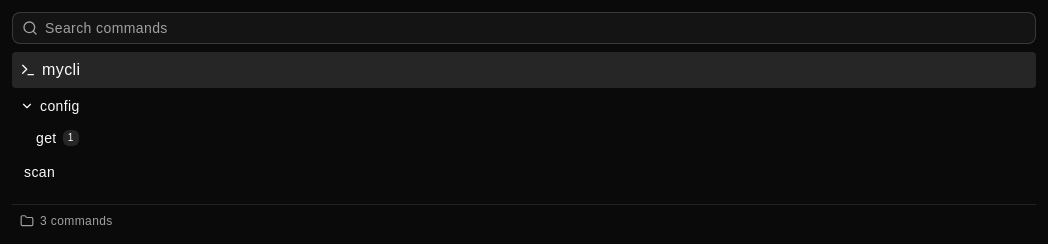
Test: CommandTree › filters commands by alias when a search query is entered
Type "cfg" into the field with placeholder "Search commands".
click(524, 28); type("cfg")  # box [12, 12, 1036, 44]
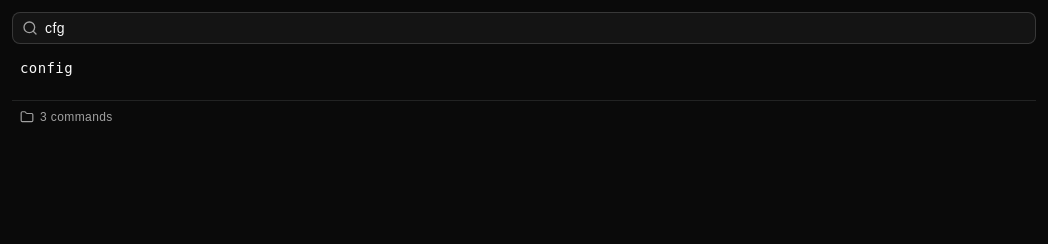
Expected: the button "config" is shown, [12, 52, 1036, 84]
Now the button "get" is gone
Now the button "scan" is gone
